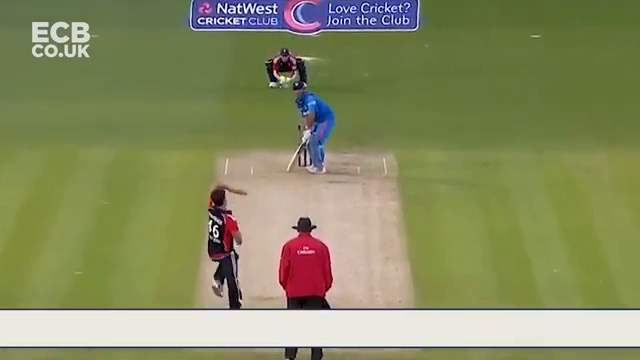Bowler: (207, 185, 255, 307)
Keeper: (264, 46, 313, 92)
Umpire: (277, 217, 332, 360)
batsman: (289, 81, 335, 176)
